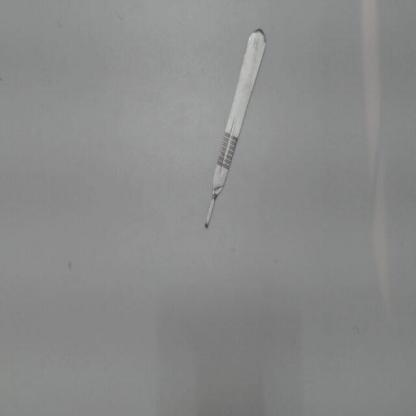No.3 BP Handle: (191, 21, 276, 238)
